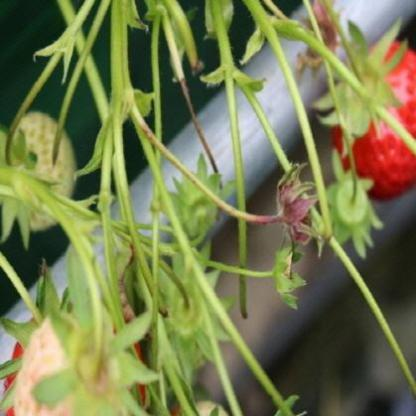Strawberry_Gray_Mold: (257, 161, 321, 244)
